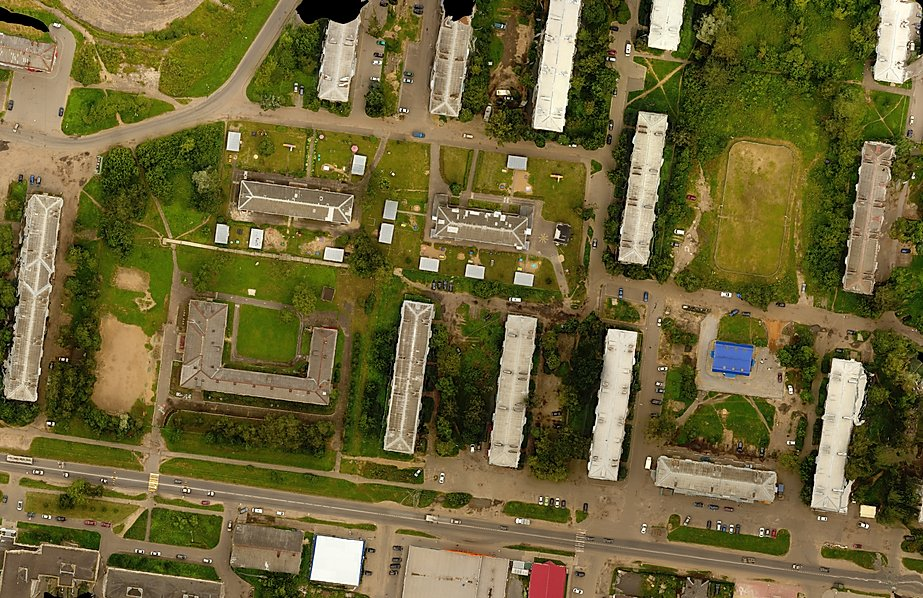build: (179, 294, 341, 410), (1, 190, 66, 404), (808, 354, 869, 518), (614, 102, 670, 274), (380, 291, 436, 458), (841, 134, 897, 296), (586, 325, 639, 488), (487, 307, 538, 472), (649, 449, 785, 508), (527, 1, 583, 133), (230, 180, 362, 229), (2, 533, 100, 598), (425, 1, 471, 124), (870, 1, 923, 89), (224, 520, 305, 577), (315, 1, 356, 103), (307, 531, 371, 591), (637, 1, 689, 56), (702, 335, 758, 381), (520, 557, 569, 598)
